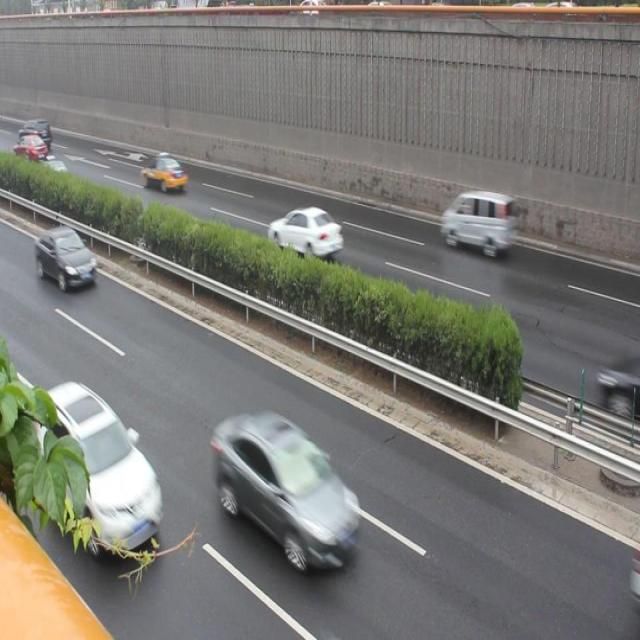car: (207, 400, 359, 572), (30, 377, 169, 547), (265, 200, 344, 267), (32, 222, 98, 288), (140, 150, 187, 193)
truck: (441, 185, 516, 252)
